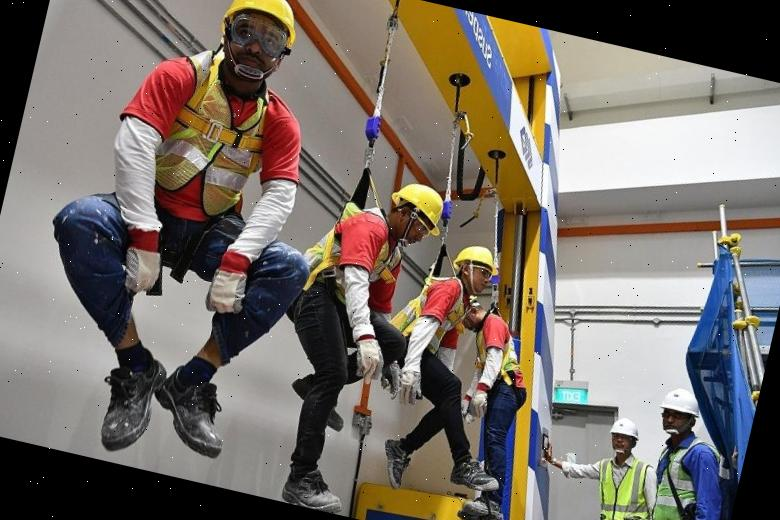helmet: (218, 0, 306, 53), (386, 177, 450, 236), (450, 239, 501, 275), (658, 381, 704, 419), (606, 414, 643, 442)
wear: (124, 66, 292, 250), (297, 210, 410, 312), (392, 272, 478, 354), (646, 435, 720, 520), (470, 315, 534, 396), (593, 458, 663, 520)
